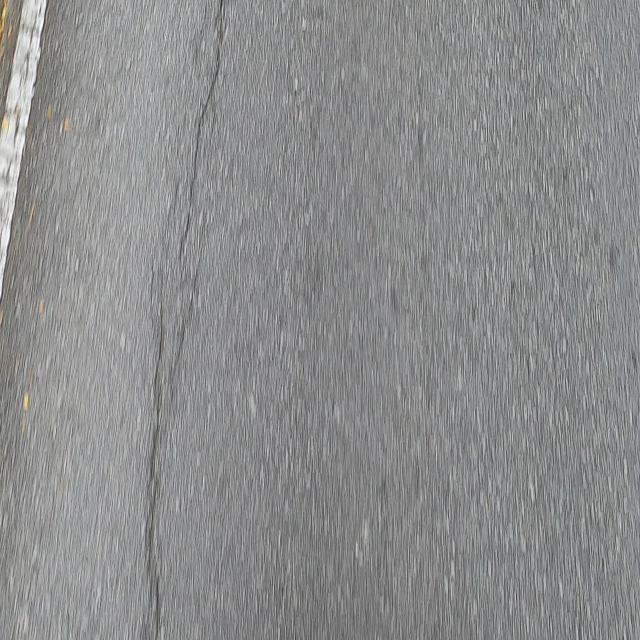Retak-Memanjang: (175, 0, 227, 256)
